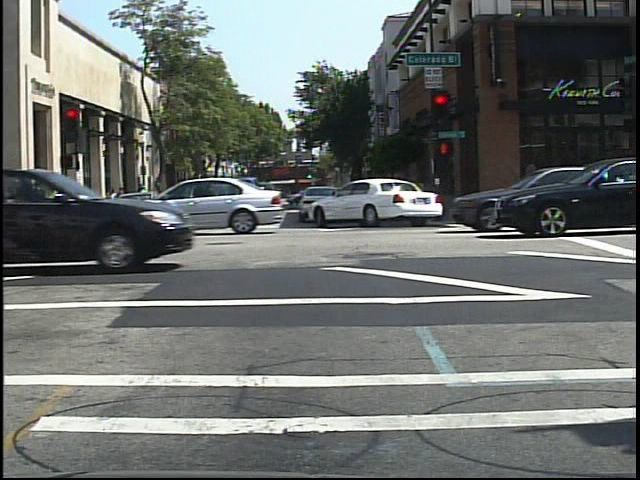person: (134, 181, 153, 220), (133, 181, 148, 214)
